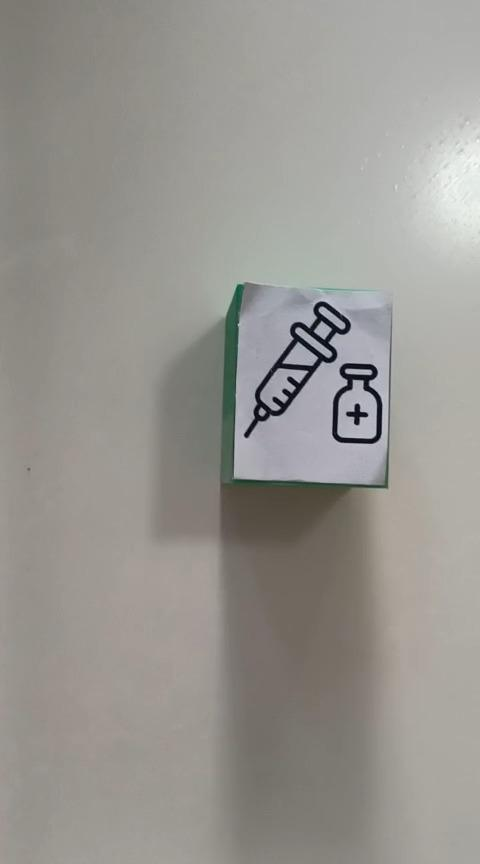antiseptic cream: (221, 282, 389, 491)
